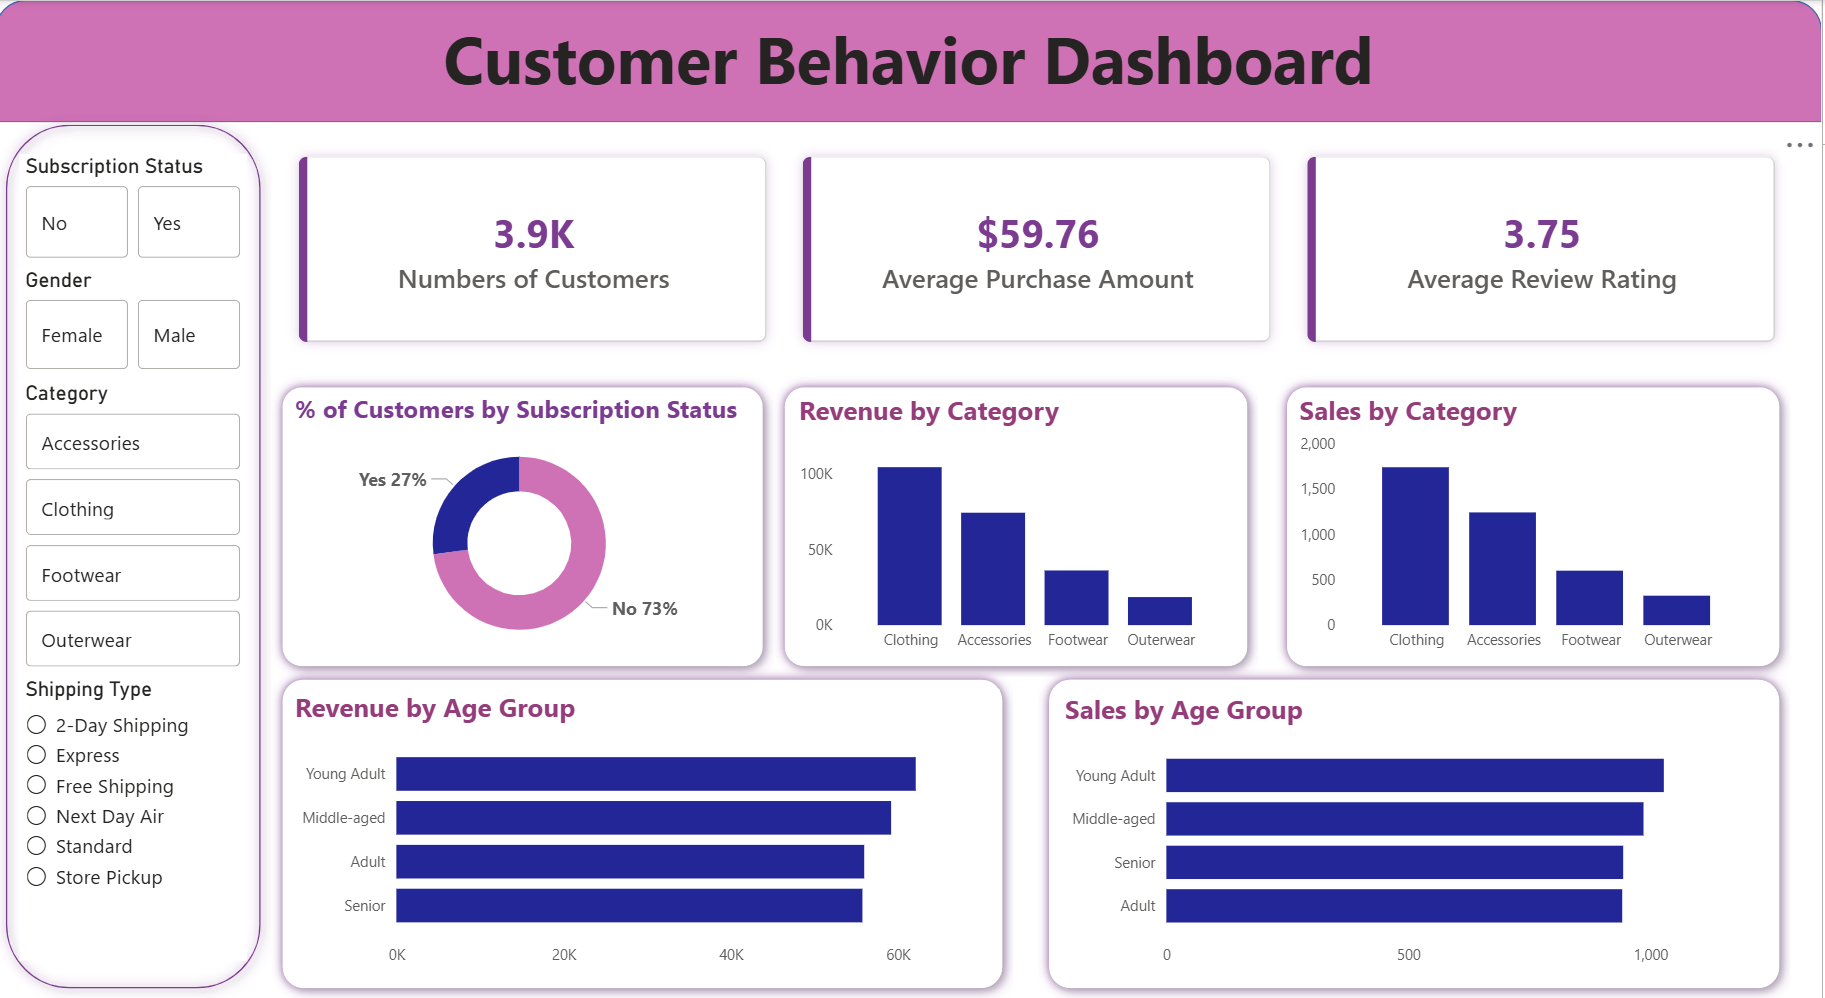

The dashboard page shown, as its layout file describes it:
{"tool":"powerbi","page":{"name":"Page 1","canvas":[1500,820],"ordinal":0},"visuals":[{"type":"cardVisual","fields":{"Data":["mydatabase mytable.Numbers of Customers","mydatabase mytable.Average Purchase Amount","mydatabase mytable.Average Review Rating"]},"box":[221.3,100.6,1268.7,208.3],"z":0},{"type":"shape","box":[0,0,1500,100.6],"z":1000},{"type":"textbox","box":[0,5.7,1500,87.6],"z":2000},{"type":"shape","box":[227,308.9,412.4,247.1],"z":3000},{"type":"donutChart","title":"% of Customers by Subscription Status","fields":{"Category":["mydatabase mytable.subscription_status"],"Y":["CountNonNull(mydatabase mytable.customer_id)"]},"box":[241.4,321.8,377.9,221.3],"z":4000},{"type":"shape","box":[639.4,308.9,398,247.1],"z":5000},{"type":"shape","box":[1051.7,308.9,422.4,247.1],"z":6000},{"type":"clusteredColumnChart","title":"Revenue by Category","fields":{"Y":["Sum(mydatabase mytable.purchase_amount)"],"Category":["mydatabase mytable.category"]},"box":[655.2,321.8,362.1,221.3],"z":7000},{"type":"clusteredColumnChart","title":"Sales by Category","fields":{"Category":["mydatabase mytable.category"],"Y":["CountNonNull(mydatabase mytable.customer_id)"]},"box":[1066.1,321.8,377.9,221.3],"z":8000},{"type":"shape","box":[0,93.4,227,727],"z":9000},{"type":"advancedSlicerVisual","fields":{"Values":["mydatabase mytable.subscription_status"]},"box":[20.1,126.4,186.8,90.5],"z":10000},{"type":"advancedSlicerVisual","fields":{"Values":["mydatabase mytable.gender"]},"box":[20.1,219.8,186.8,89.1],"z":11000},{"type":"advancedSlicerVisual","fields":{"Values":["mydatabase mytable.category"]},"box":[20.1,313.2,186.8,242.8],"z":12000},{"type":"listSlicer","fields":{"Values":["mydatabase mytable.shipping_type"]},"box":[20.1,556,186.8,232.8],"z":13000},{"type":"shape","box":[227,548.9,609.2,271.6],"z":14000},{"type":"clusteredBarChart","title":"Revenue by Age Group","fields":{"Category":["mydatabase mytable.age_group"],"Y":["Sum(mydatabase mytable.purchase_amount)"]},"box":[241.4,566.1,583.3,235.6],"z":15000},{"type":"shape","box":[856.3,548.9,617.8,271.6],"z":16000},{"type":"clusteredBarChart","title":"Sales by Age Group","fields":{"Category":["mydatabase mytable.age_group"],"Y":["CountNonNull(mydatabase mytable.customer_id)"]},"box":[873.6,567.5,584.8,234.2],"z":17000}]}

Visuals, with their boxes in screenshot pixels (x1, y1, x2, y2), scaled from the page's 1500x820 canvas onto the 1825x998 screenshot:
cardVisual - mydatabase mytable.Numbers of Customers x mydatabase mytable.Average Purchase Amount: crop(269, 122, 1813, 376)
shape: crop(0, 0, 1824, 122)
textbox: crop(0, 7, 1824, 114)
shape: crop(276, 376, 778, 677)
"% of Customers by Subscription Status" donutChart: crop(294, 392, 753, 661)
shape: crop(778, 376, 1262, 677)
shape: crop(1280, 376, 1793, 677)
"Revenue by Category" clusteredColumnChart: crop(797, 392, 1238, 661)
"Sales by Category" clusteredColumnChart: crop(1297, 392, 1757, 661)
shape: crop(0, 114, 276, 997)
advancedSlicerVisual - mydatabase mytable.subscription_status: crop(24, 154, 252, 264)
advancedSlicerVisual - mydatabase mytable.gender: crop(24, 268, 252, 376)
advancedSlicerVisual - mydatabase mytable.category: crop(24, 381, 252, 677)
listSlicer - mydatabase mytable.shipping_type: crop(24, 677, 252, 960)
shape: crop(276, 668, 1017, 997)
"Revenue by Age Group" clusteredBarChart: crop(294, 689, 1003, 976)
shape: crop(1042, 668, 1793, 997)
"Sales by Age Group" clusteredBarChart: crop(1063, 691, 1774, 976)
